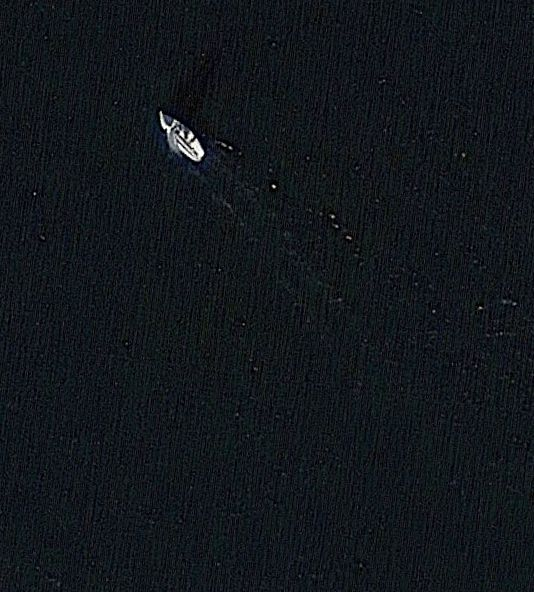boat: (159, 112, 207, 164)
